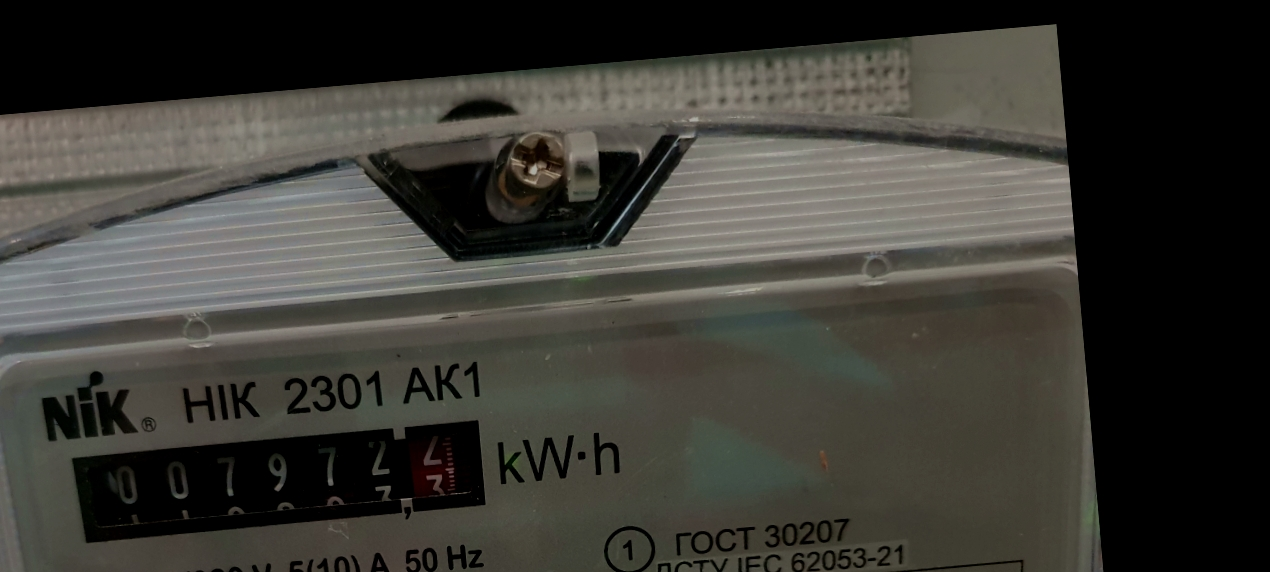0: (112, 461, 141, 505), (163, 456, 191, 500)
2: (366, 436, 392, 476), (417, 432, 443, 468)
3: (422, 469, 446, 496)
7: (314, 441, 343, 489), (213, 451, 241, 498)
9: (264, 448, 290, 492)
screen: (54, 405, 504, 557)
